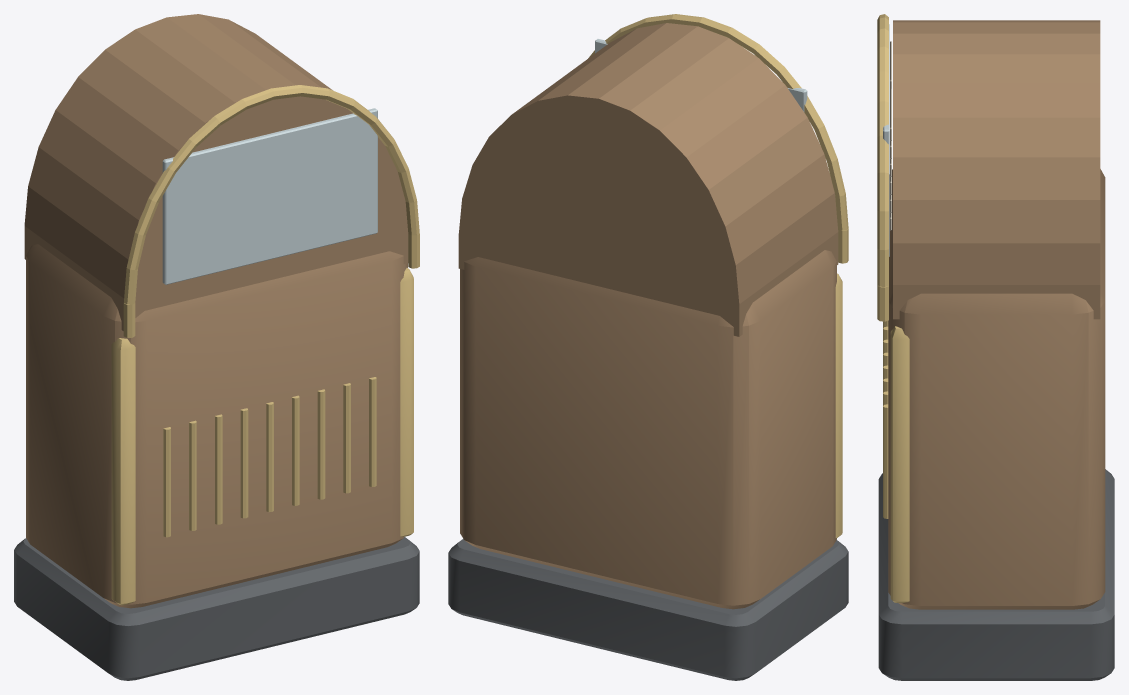
Rendered from jukebox.glb.
The picture shows the model from 3 angles, left to right: view 1: azimuth 30°, elevation 25°; view 2: azimuth 150°, elevation 25°; view 3: azimuth 270°, elevation 25°; orthographic projection. The views are drawn at different scales.
Visible parts, largest first — view 1: jukebox; view 2: jukebox; view 3: jukebox.
Part boxes in pixels (left/top/right/bottom): jukebox: left=14, top=14, right=419, bottom=680; jukebox: left=448, top=14, right=848, bottom=680; jukebox: left=877, top=14, right=1114, bottom=680.
Size of the model in its own units: 0.78 by 1.35 by 0.503.
